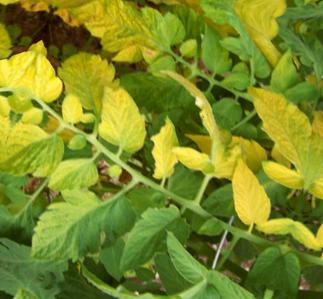Tomato leaf yellow virus: (60, 0, 188, 79), (11, 175, 110, 277), (231, 85, 323, 187), (72, 71, 169, 160), (174, 0, 296, 70), (210, 154, 294, 233)
